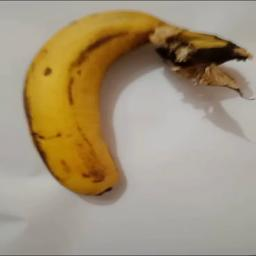Banana Semifresh: (21, 4, 256, 195)
